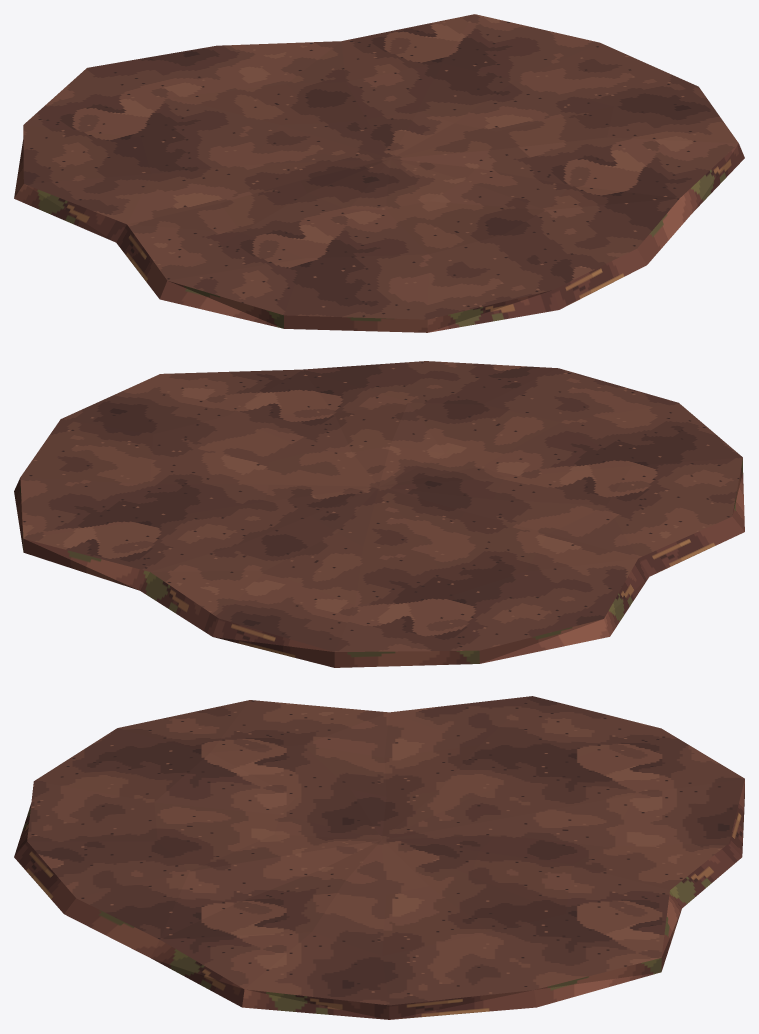
File: SM_AN06b_EarthFloorPatch.fbx
3 views of the same model, one above another, from view 1: azimuth 30°, elevation 25°; view 2: azimuth 150°, elevation 25°; view 3: azimuth 270°, elevation 25° (orthographic). The views are drawn at different scales.
Visible parts, largest first — view 1: AN06b_Floor, AN06b_Earth; view 2: AN06b_Floor, AN06b_Earth; view 3: AN06b_Floor, AN06b_Earth.
Part boxes in pixels (x1,y1,x2,y2): AN06b_Floor: (23, 14, 738, 319); AN06b_Earth: (14, 136, 744, 332); AN06b_Floor: (20, 361, 742, 651); AN06b_Earth: (14, 459, 744, 667); AN06b_Floor: (27, 696, 744, 1005); AN06b_Earth: (14, 779, 744, 1019).
Size of the model in its own units: 3.94 by 0.1347 by 3.89.
